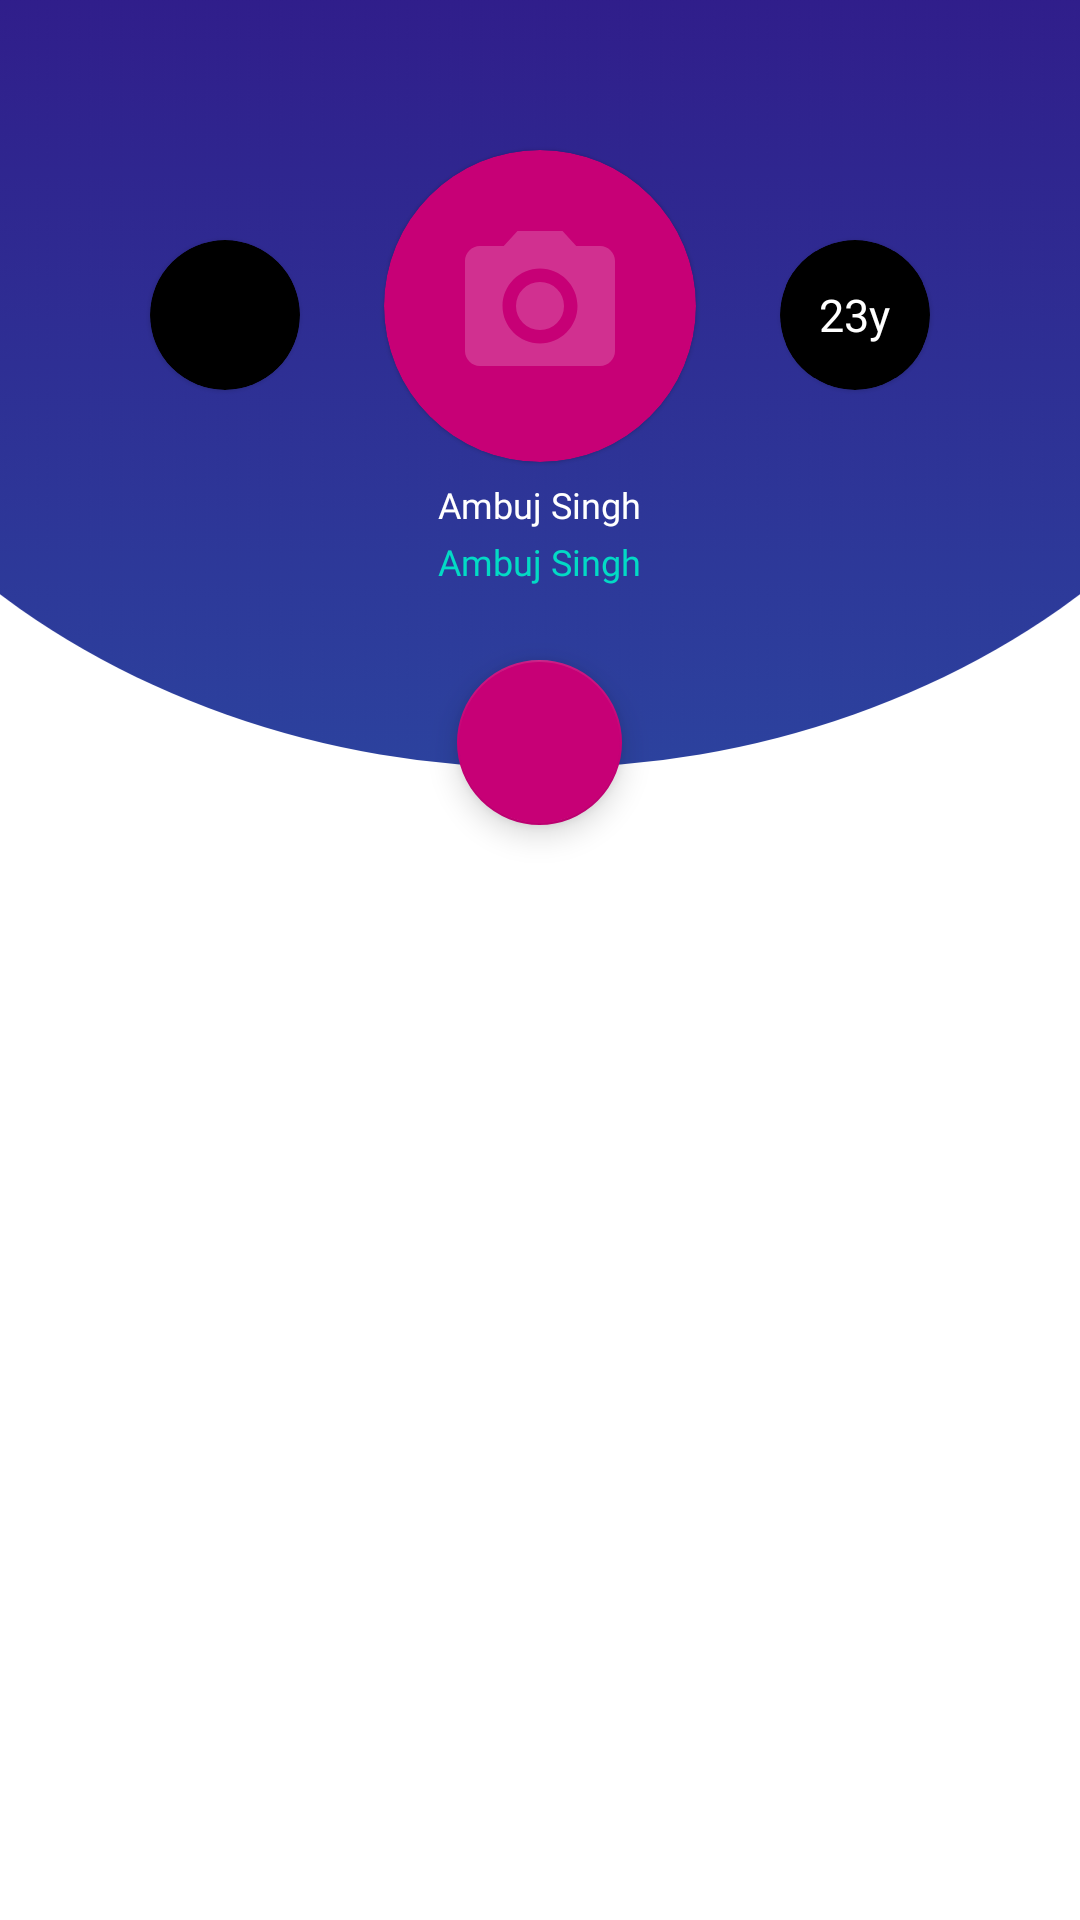

Where to tap for icons on this 1080w x 1920h app screen, as [x,y]:
camera: [540,306]
